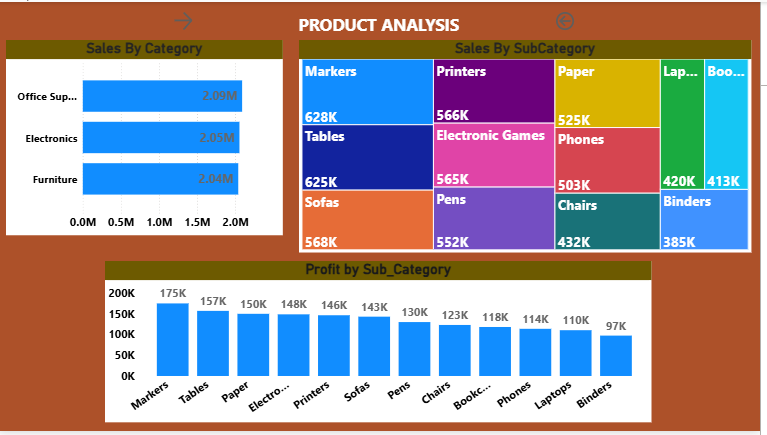

This screenshot's page, from the dashboard's own definition file:
{"tool":"powerbi","page":{"name":"Page 3","canvas":[1280,720],"ordinal":2},"visuals":[{"type":"shape","box":[429.5,0,419.4,64],"z":0},{"type":"barChart","title":"Sales By Category","fields":{"Category":["Sales.Category"],"Y":["Sales.Total Sales"]},"box":[13.5,64,464.8,328.4],"z":1000},{"type":"treemap","title":"Sales By SubCategory","fields":{"Group":["Sales.Sub_Category"],"Values":["Sum(Sales.Amount)"]},"box":[505.3,64,759.6,357.1],"z":2000},{"type":"clusteredColumnChart","title":" Profit by Sub_Category","fields":{"Y":["Sum(Sales.Profit)"],"Category":["Sales.Sub_Category"]},"box":[180.2,434.5,917.9,271.2],"z":3000},{"type":"actionButton","box":[291.4,11.8,99.4,40.4],"z":4000},{"type":"actionButton","box":[933.1,11.8,79.2,40.4],"z":5000}]}

Visuals, with their boxes in screenshot pixels (x1, y1, x2, y2), scaled from the page's 1280x720 canvas onto the 767x435 screenshot:
shape: select_region(257, 0, 509, 39)
"Sales By Category" barChart: select_region(8, 39, 287, 237)
"Sales By SubCategory" treemap: select_region(303, 39, 758, 254)
" Profit by Sub_Category" clusteredColumnChart: select_region(108, 263, 658, 426)
actionButton: select_region(175, 7, 234, 32)
actionButton: select_region(559, 7, 607, 32)
